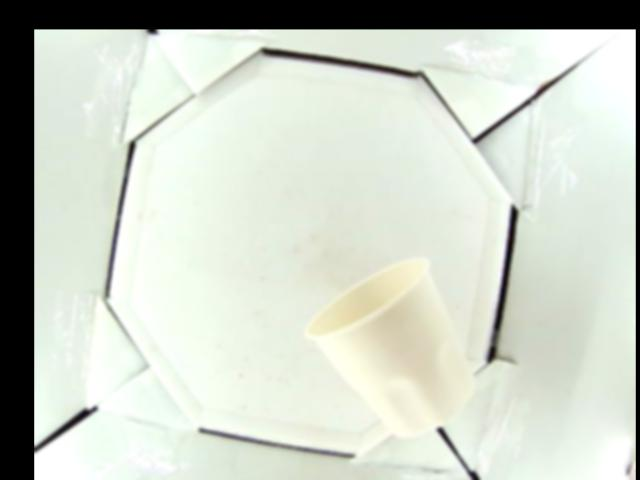Cup: (304, 255, 475, 433)
